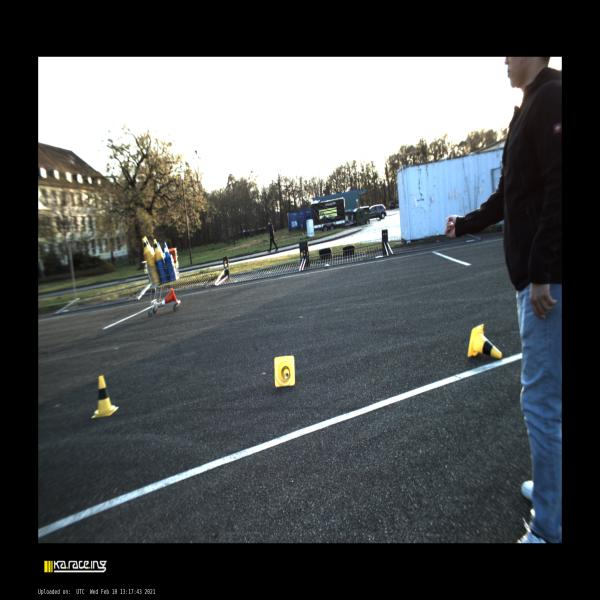blue_cone: (164, 242, 172, 259)
large_orange_cone: (159, 288, 177, 305)
yellow_cone: (467, 323, 502, 359), (91, 375, 119, 419), (274, 355, 295, 387), (142, 237, 150, 255), (144, 236, 152, 250), (153, 239, 160, 255)
